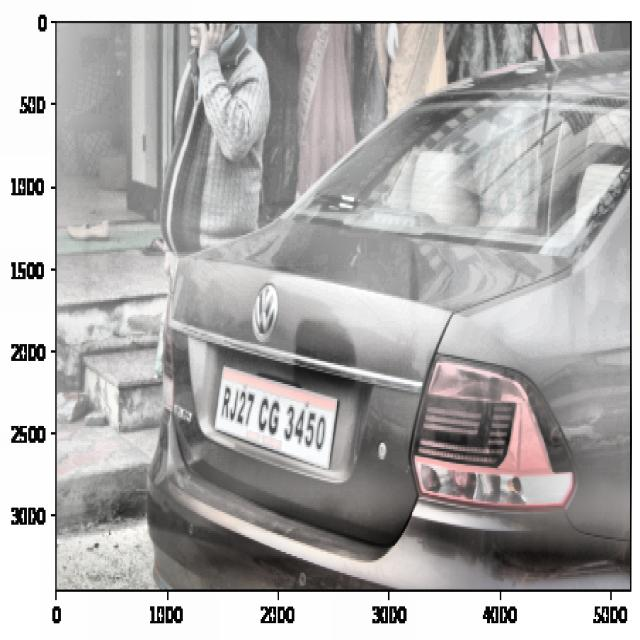license_plate: (215, 377, 332, 454)
